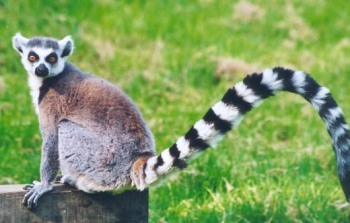cat: (9, 30, 349, 213)
